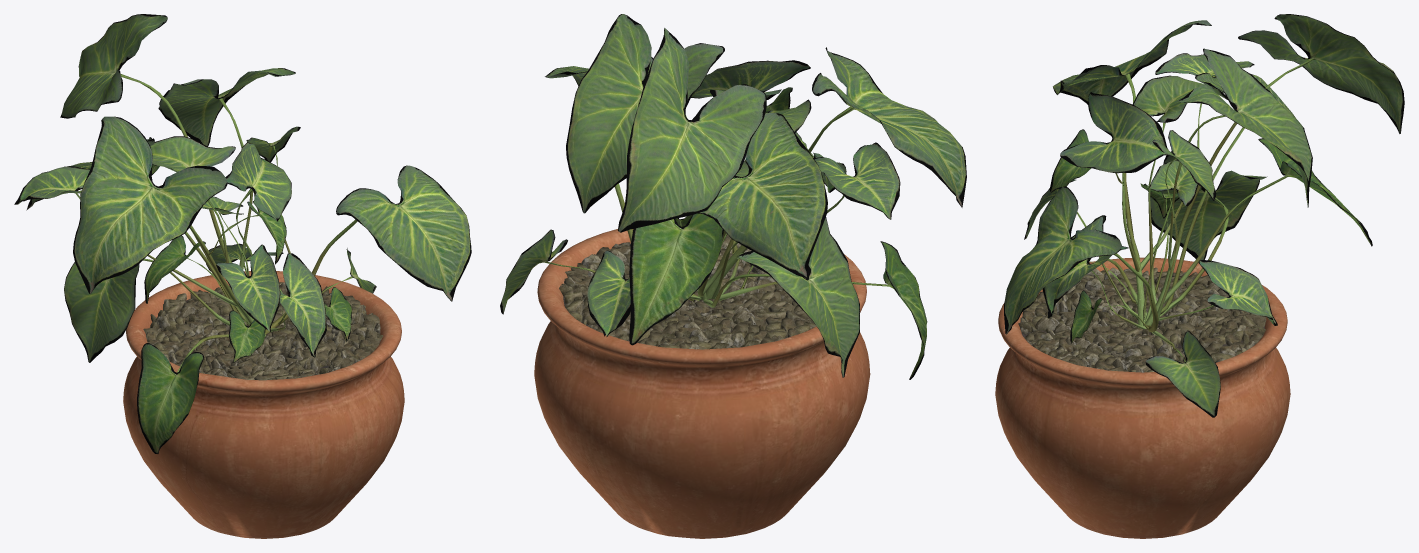
Rendered from potted_plant_02_1k.gltf.
The picture shows the model from 3 angles, left to right: view 1: azimuth 30°, elevation 25°; view 2: azimuth 150°, elevation 25°; view 3: azimuth 270°, elevation 25°; orthographic projection. The views are drawn at different scales.
Parts seen in each view (by area): view 1: potted_plant_02_leaves, potted_plant_02_pot, potted_plant_02_dirt; view 2: potted_plant_02_leaves, potted_plant_02_pot, potted_plant_02_dirt; view 3: potted_plant_02_leaves, potted_plant_02_pot, potted_plant_02_dirt.
Boxes of the visible parts, x1,y1,x2,y2 form: potted_plant_02_leaves: [14, 14, 471, 453]; potted_plant_02_pot: [123, 271, 404, 538]; potted_plant_02_dirt: [143, 282, 383, 380]; potted_plant_02_leaves: [500, 14, 966, 379]; potted_plant_02_pot: [534, 229, 870, 538]; potted_plant_02_dirt: [559, 233, 816, 349]; potted_plant_02_leaves: [1004, 14, 1404, 417]; potted_plant_02_pot: [995, 257, 1290, 538]; potted_plant_02_dirt: [1018, 267, 1266, 372].
Bounding box in the file's own units: 0.7012 × 0.8412 × 0.6574.
2 materials, 2 textured.
